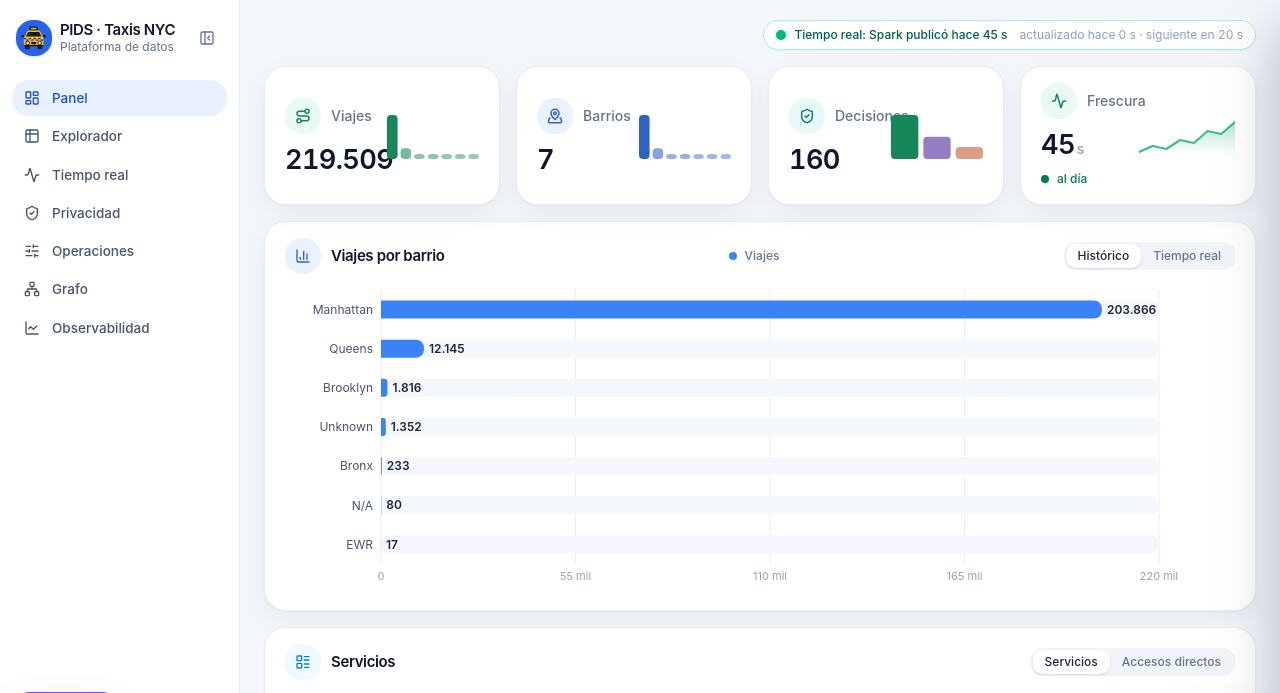
Test case: PaginaPanel › pinta las barras por barrio con pestañas histórico / tiempo real
Expected: the picture named "Viajes por barrio el 31/12/2020 (histórico)" shows "Manhattan", left=313, top=302, right=373, bottom=317
Expected: the picture named "Viajes por barrio el 31/12/2020 (histórico)" shows "203.866", left=1107, top=302, right=1156, bottom=317
Step 1. Click the tab "Tiempo real" → (1187, 256), box left=1141, top=244, right=1233, bottom=268
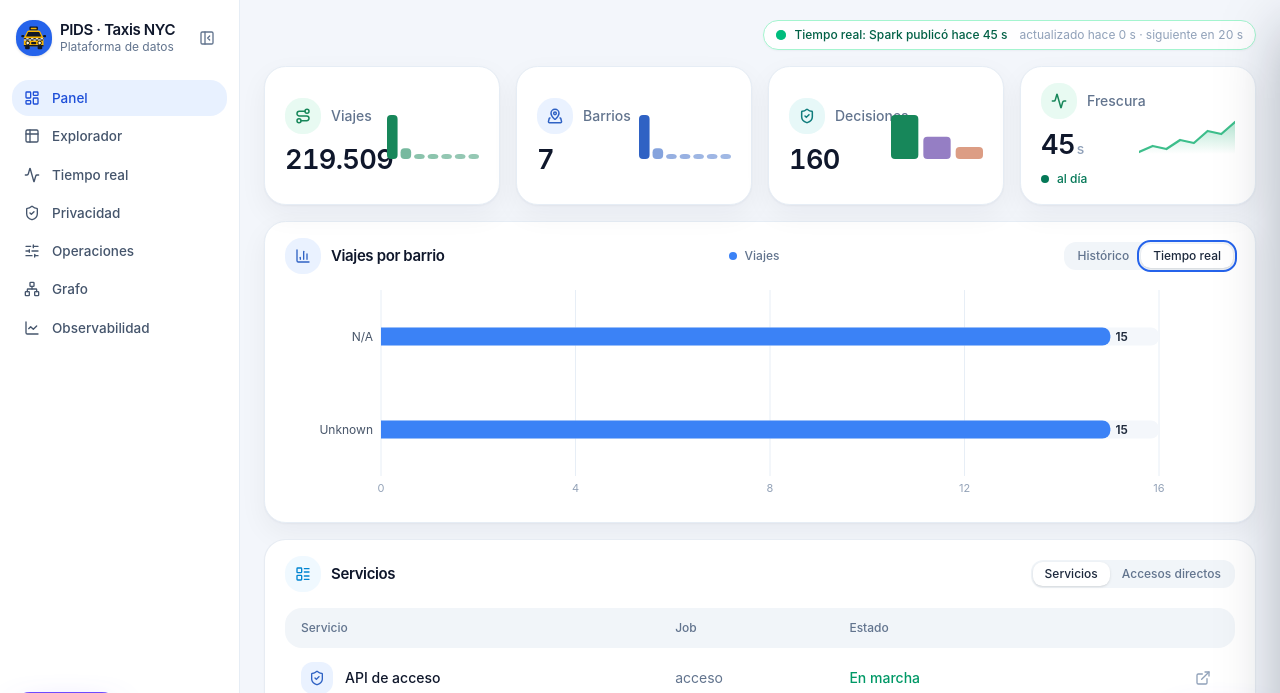
Expected: the picture named "Viajes por barrio el 30/12/2020 (tiempo real)" is shown, left=285, top=286, right=1235, bottom=506
